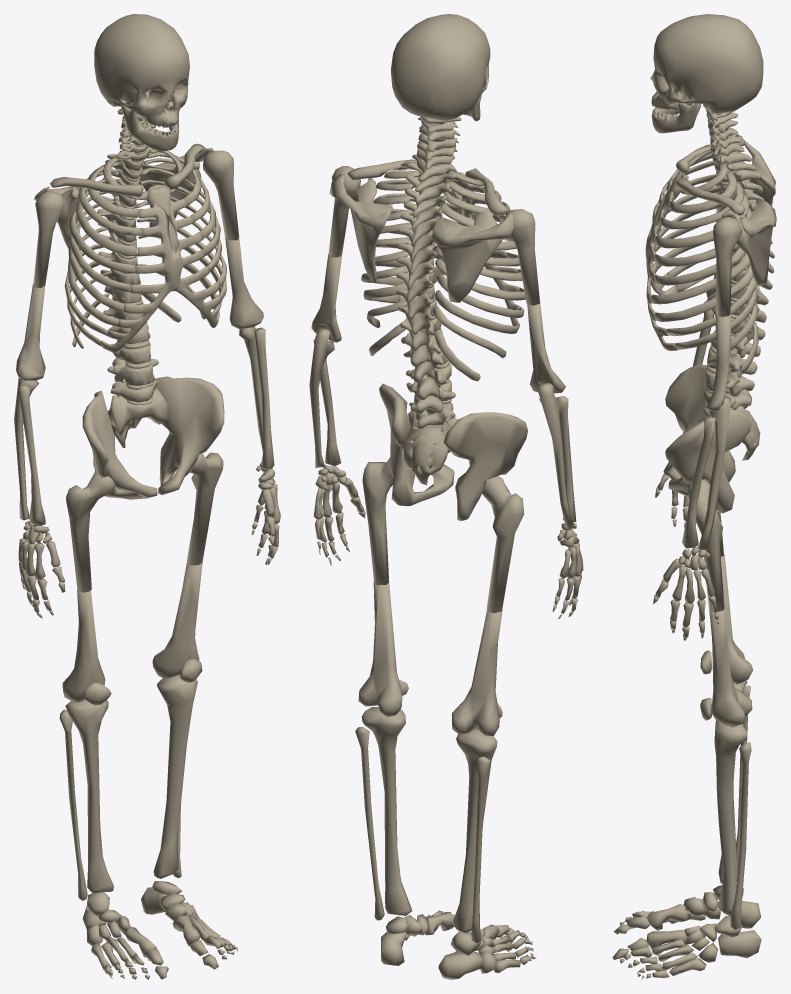
File: pediatric_adolescent_female.skeletal.LOD2.glb
3 renders of one model, left to right at view 1: azimuth 30°, elevation 25°; view 2: azimuth 150°, elevation 25°; view 3: azimuth 270°, elevation 25°, orthographic. The views are drawn at different scales.
Visible parts, largest first — view 1: PEDIATRIC.ADOLESCENT.FEMALE.SKELETAL.RIBS_CORTICAL, PEDIATRIC.ADOLESCENT.FEMALE.SKELETAL.CRANIUM_CORTICAL, PEDIATRIC.ADOLESCENT.FEMALE.SKELETAL.PELVIS_CORTICAL, PEDIATRIC.ADOLESCENT.FEMALE.SKELETAL.TIBIAE_CORTICAL, PEDIATRIC.ADOLESCENT.FEMALE.SKELETAL.CARTILAGE_TRUNK, PEDIATRIC.ADOLESCENT.FEMALE.SKELETAL.ANKLES_AND_FOOT_CORTICA, PEDIATRIC.ADOLESCENT.FEMALE.SKELETAL.FEMORA_LOWER_CORTICAL, PEDIATRIC.ADOLESCENT.FEMALE.SKELETAL.FEMORA_UPPER_CORTICAL, PEDIATRIC.ADOLESCENT.FEMALE.SKELETAL.WRISTS_AND_HAND_BONES_C, PEDIATRIC.ADOLESCENT.FEMALE.SKELETAL.HUMERI_UPPER_CORTICAL, PEDIATRIC.ADOLESCENT.FEMALE.SKELETAL.HUMERI_LOWER_CORTICAL, PEDIATRIC.ADOLESCENT.FEMALE.SKELETAL.RADII_CORTICAL (+11 smaller); view 2: PEDIATRIC.ADOLESCENT.FEMALE.SKELETAL.RIBS_CORTICAL, PEDIATRIC.ADOLESCENT.FEMALE.SKELETAL.CRANIUM_CORTICAL, PEDIATRIC.ADOLESCENT.FEMALE.SKELETAL.PELVIS_CORTICAL, PEDIATRIC.ADOLESCENT.FEMALE.SKELETAL.TIBIAE_CORTICAL, PEDIATRIC.ADOLESCENT.FEMALE.SKELETAL.SCAPULAE_CORTICAL, PEDIATRIC.ADOLESCENT.FEMALE.SKELETAL.FEMORA_LOWER_CORTICAL, PEDIATRIC.ADOLESCENT.FEMALE.SKELETAL.THORACIC_SPINE_CORTICAL, PEDIATRIC.ADOLESCENT.FEMALE.SKELETAL.FEMORA_UPPER_CORTICAL, PEDIATRIC.ADOLESCENT.FEMALE.SKELETAL.ANKLES_AND_FOOT_CORTICA, PEDIATRIC.ADOLESCENT.FEMALE.SKELETAL.WRISTS_AND_HAND_BONES_C, PEDIATRIC.ADOLESCENT.FEMALE.SKELETAL.LUMBAR_SPINE_CORTICAL, PEDIATRIC.ADOLESCENT.FEMALE.SKELETAL.ULNAE_CORTICAL (+8 smaller); view 3: PEDIATRIC.ADOLESCENT.FEMALE.SKELETAL.RIBS_CORTICAL, PEDIATRIC.ADOLESCENT.FEMALE.SKELETAL.CRANIUM_CORTICAL, PEDIATRIC.ADOLESCENT.FEMALE.SKELETAL.ANKLES_AND_FOOT_CORTICA, PEDIATRIC.ADOLESCENT.FEMALE.SKELETAL.PELVIS_CORTICAL, PEDIATRIC.ADOLESCENT.FEMALE.SKELETAL.FEMORA_LOWER_CORTICAL, PEDIATRIC.ADOLESCENT.FEMALE.SKELETAL.TIBIAE_CORTICAL, PEDIATRIC.ADOLESCENT.FEMALE.SKELETAL.WRISTS_AND_HAND_BONES_C, PEDIATRIC.ADOLESCENT.FEMALE.SKELETAL.SCAPULAE_CORTICAL, PEDIATRIC.ADOLESCENT.FEMALE.SKELETAL.LUMBAR_SPINE_CORTICAL, PEDIATRIC.ADOLESCENT.FEMALE.SKELETAL.CARTILAGE_TRUNK, PEDIATRIC.ADOLESCENT.FEMALE.SKELETAL.FIBULAE_CORTICAL, PEDIATRIC.ADOLESCENT.FEMALE.SKELETAL.HUMERI_UPPER_CORTICAL (+10 smaller).
Boxes of the visible parts, x1,y1,x2,y2 form: PEDIATRIC.ADOLESCENT.FEMALE.SKELETAL.RIBS_CORTICAL: (64,149,226,348); PEDIATRIC.ADOLESCENT.FEMALE.SKELETAL.CRANIUM_CORTICAL: (94,14,189,127); PEDIATRIC.ADOLESCENT.FEMALE.SKELETAL.PELVIS_CORTICAL: (82,376,224,499); PEDIATRIC.ADOLESCENT.FEMALE.SKELETAL.TIBIAE_CORTICAL: (65,675,197,893); PEDIATRIC.ADOLESCENT.FEMALE.SKELETAL.CARTILAGE_TRUNK: (100,120,221,404); PEDIATRIC.ADOLESCENT.FEMALE.SKELETAL.ANKLES_AND_FOOT_CORTICA: (82,881,237,979); PEDIATRIC.ADOLESCENT.FEMALE.SKELETAL.FEMORA_LOWER_CORTICAL: (62,563,202,702); PEDIATRIC.ADOLESCENT.FEMALE.SKELETAL.FEMORA_UPPER_CORTICAL: (66,452,223,592); PEDIATRIC.ADOLESCENT.FEMALE.SKELETAL.WRISTS_AND_HAND_BONES_C: (18,462,280,618); PEDIATRIC.ADOLESCENT.FEMALE.SKELETAL.HUMERI_UPPER_CORTICAL: (33,150,239,288); PEDIATRIC.ADOLESCENT.FEMALE.SKELETAL.HUMERI_LOWER_CORTICAL: (16,238,263,380); PEDIATRIC.ADOLESCENT.FEMALE.SKELETAL.RADII_CORTICAL: (19,327,274,525); PEDIATRIC.ADOLESCENT.FEMALE.SKELETAL.RIBS_CORTICAL: (361,161,525,381); PEDIATRIC.ADOLESCENT.FEMALE.SKELETAL.CRANIUM_CORTICAL: (390,14,490,120); PEDIATRIC.ADOLESCENT.FEMALE.SKELETAL.PELVIS_CORTICAL: (379,383,527,520); PEDIATRIC.ADOLESCENT.FEMALE.SKELETAL.TIBIAE_CORTICAL: (362,707,497,932); PEDIATRIC.ADOLESCENT.FEMALE.SKELETAL.SCAPULAE_CORTICAL: (329,174,513,302); PEDIATRIC.ADOLESCENT.FEMALE.SKELETAL.FEMORA_LOWER_CORTICAL: (358,581,502,735); PEDIATRIC.ADOLESCENT.FEMALE.SKELETAL.THORACIC_SPINE_CORTICAL: (396,161,456,350); PEDIATRIC.ADOLESCENT.FEMALE.SKELETAL.FEMORA_UPPER_CORTICAL: (362,457,524,613); PEDIATRIC.ADOLESCENT.FEMALE.SKELETAL.ANKLES_AND_FOOT_CORTICA: (381,910,536,979); PEDIATRIC.ADOLESCENT.FEMALE.SKELETAL.WRISTS_AND_HAND_BONES_C: (313,464,583,618); PEDIATRIC.ADOLESCENT.FEMALE.SKELETAL.LUMBAR_SPINE_CORTICAL: (401,328,455,428); PEDIATRIC.ADOLESCENT.FEMALE.SKELETAL.ULNAE_CORTICAL: (309,327,574,530); PEDIATRIC.ADOLESCENT.FEMALE.SKELETAL.RIBS_CORTICAL: (651,149,758,373); PEDIATRIC.ADOLESCENT.FEMALE.SKELETAL.CRANIUM_CORTICAL: (650,14,763,114); PEDIATRIC.ADOLESCENT.FEMALE.SKELETAL.ANKLES_AND_FOOT_CORTICA: (612,883,761,979); PEDIATRIC.ADOLESCENT.FEMALE.SKELETAL.PELVIS_CORTICAL: (665,364,751,513); PEDIATRIC.ADOLESCENT.FEMALE.SKELETAL.FEMORA_LOWER_CORTICAL: (709,554,752,727); PEDIATRIC.ADOLESCENT.FEMALE.SKELETAL.TIBIAE_CORTICAL: (714,680,747,914); PEDIATRIC.ADOLESCENT.FEMALE.SKELETAL.WRISTS_AND_HAND_BONES_C: (652,462,718,640); PEDIATRIC.ADOLESCENT.FEMALE.SKELETAL.SCAPULAE_CORTICAL: (721,140,776,285); PEDIATRIC.ADOLESCENT.FEMALE.SKELETAL.LUMBAR_SPINE_CORTICAL: (703,316,765,409); PEDIATRIC.ADOLESCENT.FEMALE.SKELETAL.CARTILAGE_TRUNK: (645,119,747,408); PEDIATRIC.ADOLESCENT.FEMALE.SKELETAL.FIBULAE_CORTICAL: (730,685,751,930); PEDIATRIC.ADOLESCENT.FEMALE.SKELETAL.HUMERI_UPPER_CORTICAL: (713,135,742,316).
Bounding box in the file's own units: 0.4583 × 1.6 × 0.2557.
